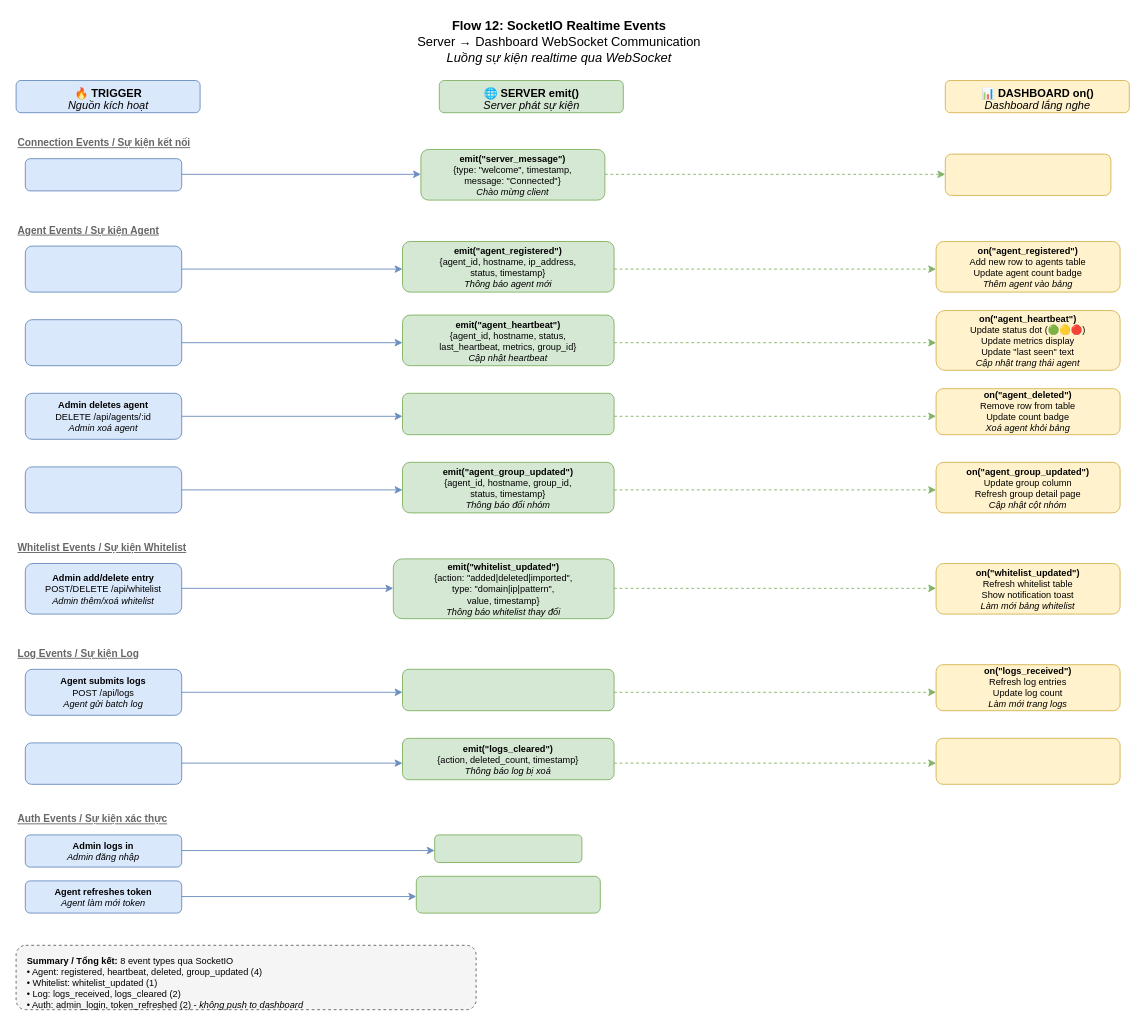
The diagram is 1145 pixels wide and 1027 high, and some of its shapes have lost their labels. Here are the shapes that lost their labels. From the top down, the box of each, then its label:
(24, 158, 182, 191): Dashboard opens page Mở trang Dashboard
(944, 153, 1111, 196): on("server_message") Show connection status Hiện trạng thái kết nối
(24, 245, 182, 292): Agent registers POST /api/agents/register Agent đăng ký mới
(24, 319, 182, 366): Agent heartbeat POST /api/agents/heartbeat Agent gửi heartbeat
(402, 392, 614, 435): emit("agent_deleted") {agent_id, hostname, timestamp} Thông báo agent bị xoá
(24, 466, 182, 513): Admin changes group PUT /api/agents/:id/group Admin đổi nhóm agent
(402, 668, 614, 711): emit("logs_received") {count, agents_affected, timestamp} Thông báo nhận log mới
(24, 742, 182, 784): Admin clears logs DELETE /api/logs Admin xoá log
(935, 737, 1120, 784): on("logs_cleared") Clear log table Reset count Xoá bảng log
(434, 834, 582, 862): emit("admin_login")
(415, 875, 600, 913): emit("token_refreshed") {agent_id, rotated, timestamp}
